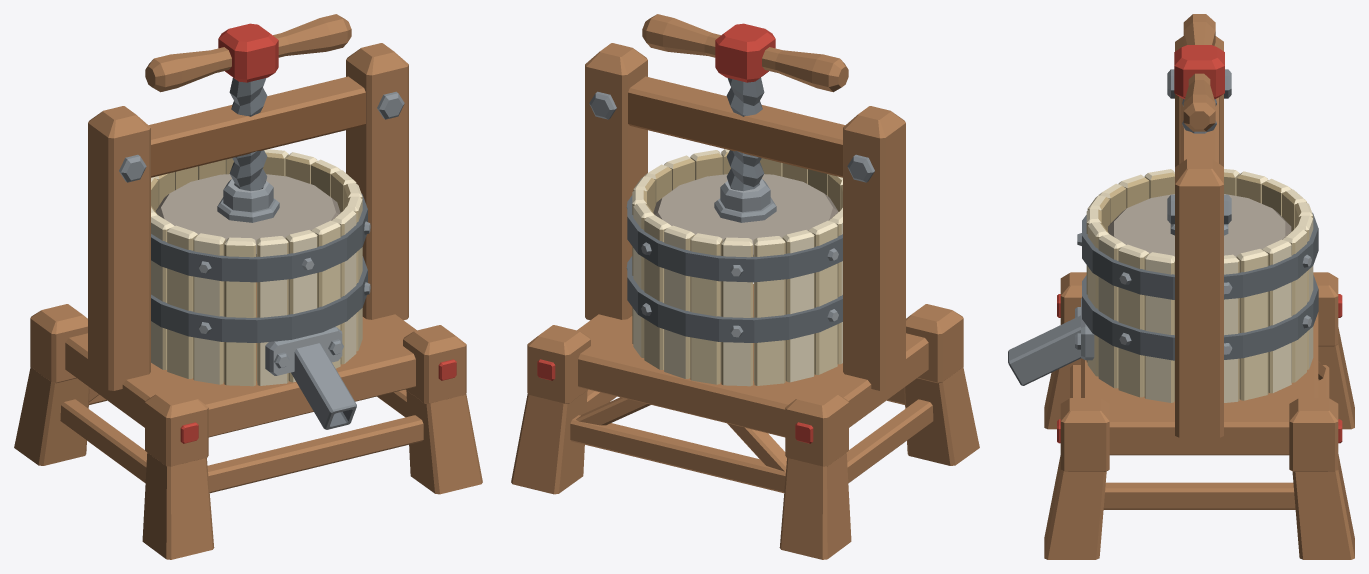
File: FMS_Workshop_STA_05.fbx
The picture shows the model from 3 angles, left to right: view 1: azimuth 30°, elevation 25°; view 2: azimuth 150°, elevation 25°; view 3: azimuth 270°, elevation 25°; orthographic projection.
Visible parts, largest first — view 1: FMS_Workshop_STA_05_Frame, FMS_Workshop_STA_05_Basket, FMS_Workshop_STA_05_Screw, FMS_Workshop_STA_05_Plate; view 2: FMS_Workshop_STA_05_Frame, FMS_Workshop_STA_05_Basket, FMS_Workshop_STA_05_Screw, FMS_Workshop_STA_05_Plate; view 3: FMS_Workshop_STA_05_Frame, FMS_Workshop_STA_05_Basket, FMS_Workshop_STA_05_Plate, FMS_Workshop_STA_05_Screw.
Boxes of the visible parts, bbox=[...] form: FMS_Workshop_STA_05_Frame: bbox=[14, 43, 482, 559]; FMS_Workshop_STA_05_Basket: bbox=[151, 149, 370, 429]; FMS_Workshop_STA_05_Screw: bbox=[145, 14, 351, 191]; FMS_Workshop_STA_05_Plate: bbox=[155, 174, 340, 256]; FMS_Workshop_STA_05_Frame: bbox=[511, 43, 979, 559]; FMS_Workshop_STA_05_Basket: bbox=[626, 149, 842, 386]; FMS_Workshop_STA_05_Screw: bbox=[642, 14, 848, 191]; FMS_Workshop_STA_05_Plate: bbox=[653, 174, 838, 256]; FMS_Workshop_STA_05_Frame: bbox=[1044, 36, 1354, 559]; FMS_Workshop_STA_05_Basket: bbox=[1008, 169, 1318, 402]; FMS_Workshop_STA_05_Plate: bbox=[1108, 194, 1291, 257]; FMS_Workshop_STA_05_Screw: bbox=[1174, 14, 1224, 133].
Size of what is drawn, in the model's own units: 1.23 by 1.6 by 1.17.
1 material, 1 textured.
